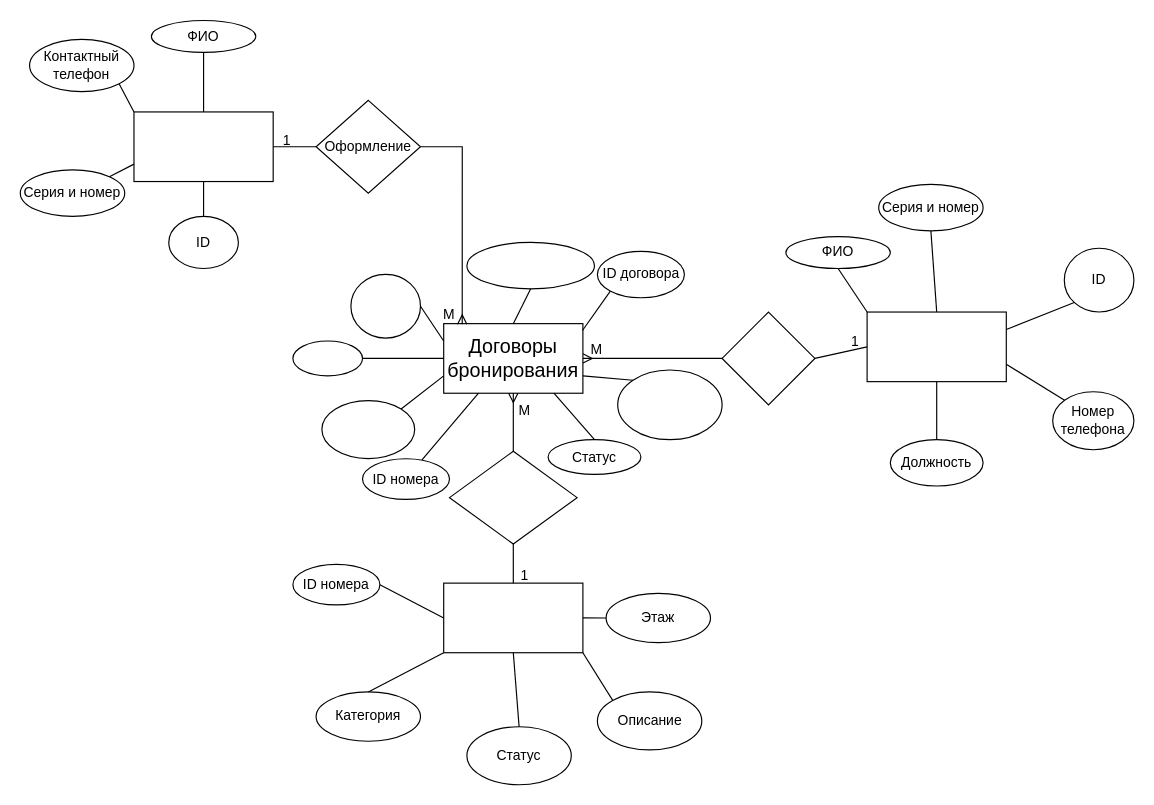
The diagram is 1154 pixels wide and 805 high, and some of its shapes have lost their labels. The box of each missing label's shape, as (x1, y1, x2, y2) in pixels:
ID клиента: (350, 273, 420, 338)
ID сотрудника: (321, 399, 415, 459)
Дата бронирования: (466, 241, 594, 289)
Дата заезда/выезда: (617, 369, 722, 440)
Заключает: (721, 311, 815, 405)
Клиенты: (133, 111, 273, 182)
Номера в гостинице: (443, 582, 583, 653)
Предоставляет: (448, 450, 577, 544)
Сотрудники: (866, 311, 1006, 382)
Тариф: (292, 340, 362, 376)
